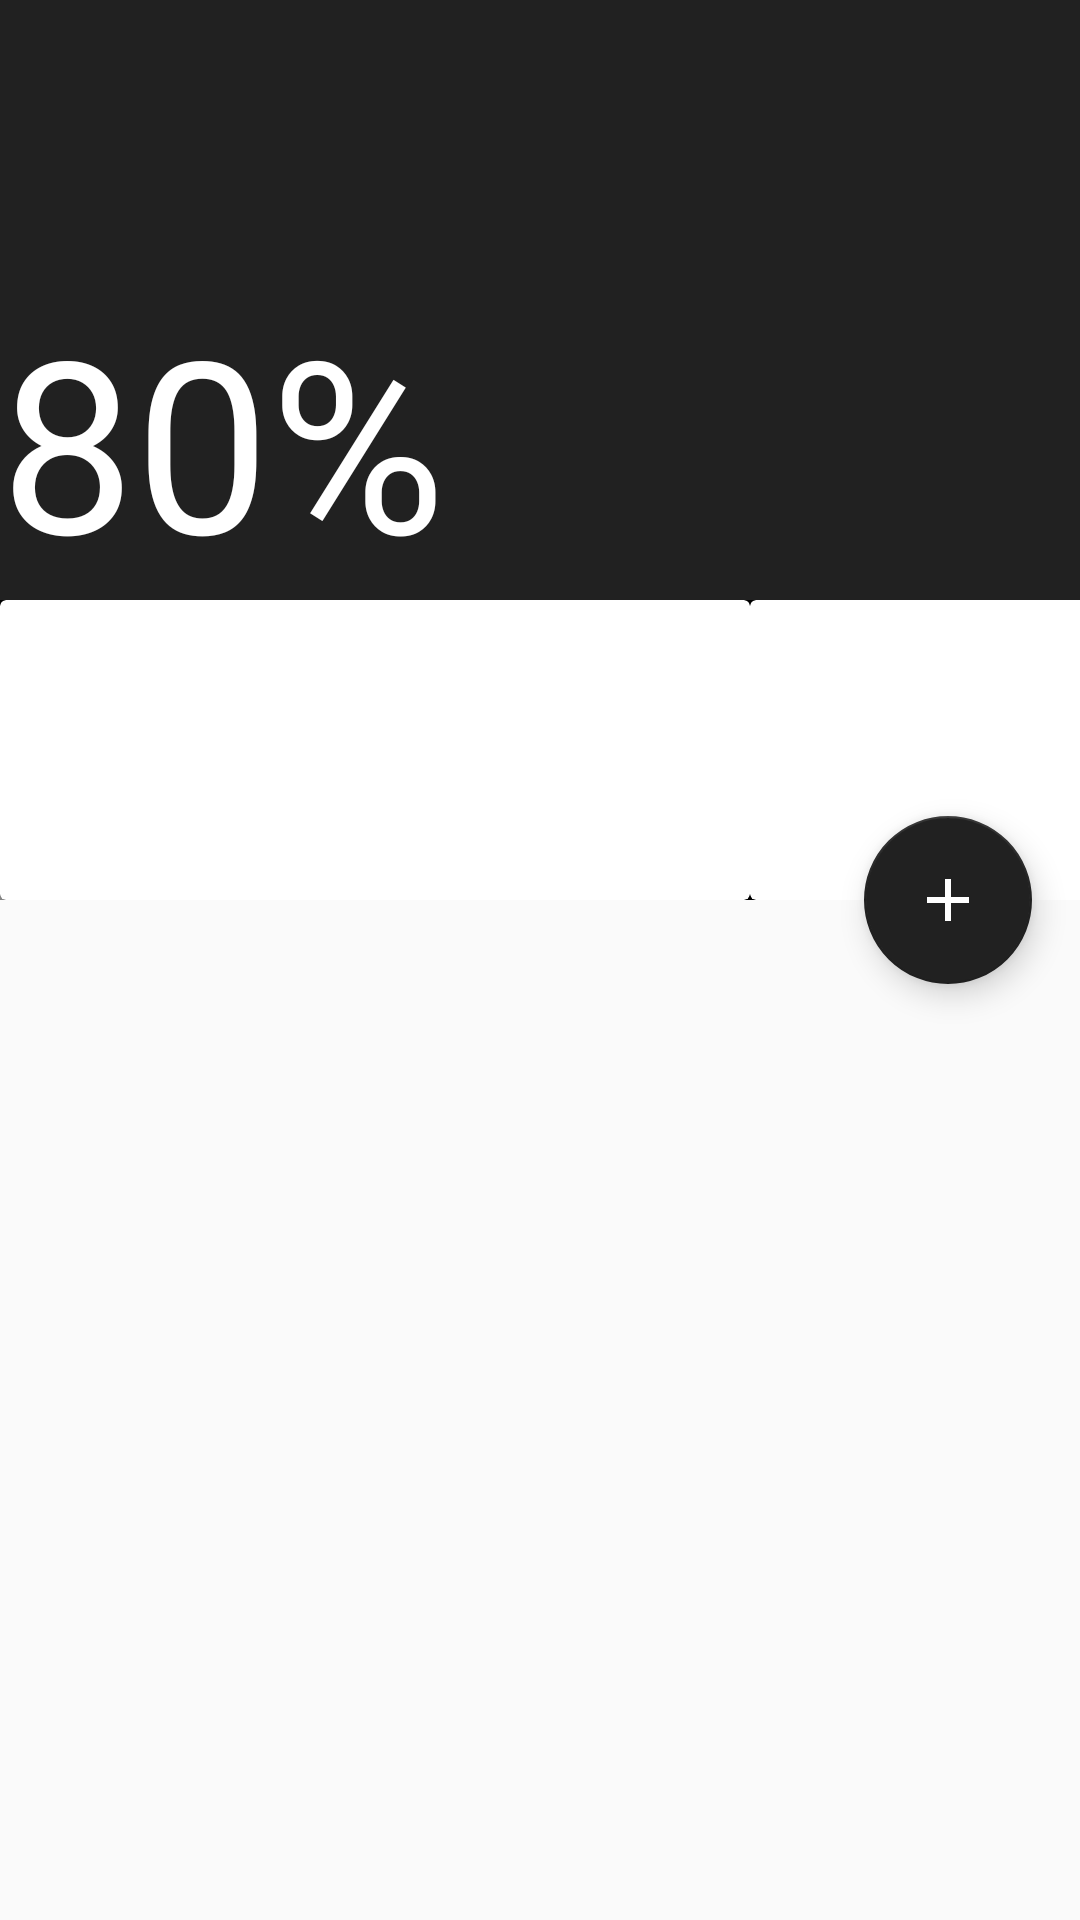

Icons on this 1080×1920 Android screen, each with its box as (x1, y1, x2, y2):
add: (864, 816, 1032, 984)
